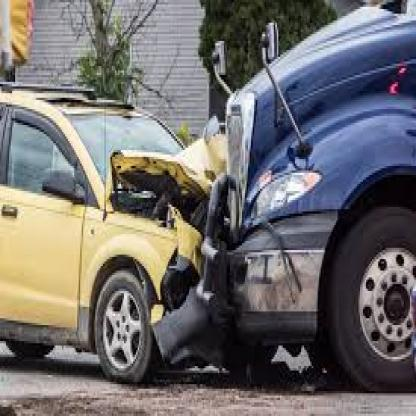accident: (66, 81, 366, 406)
